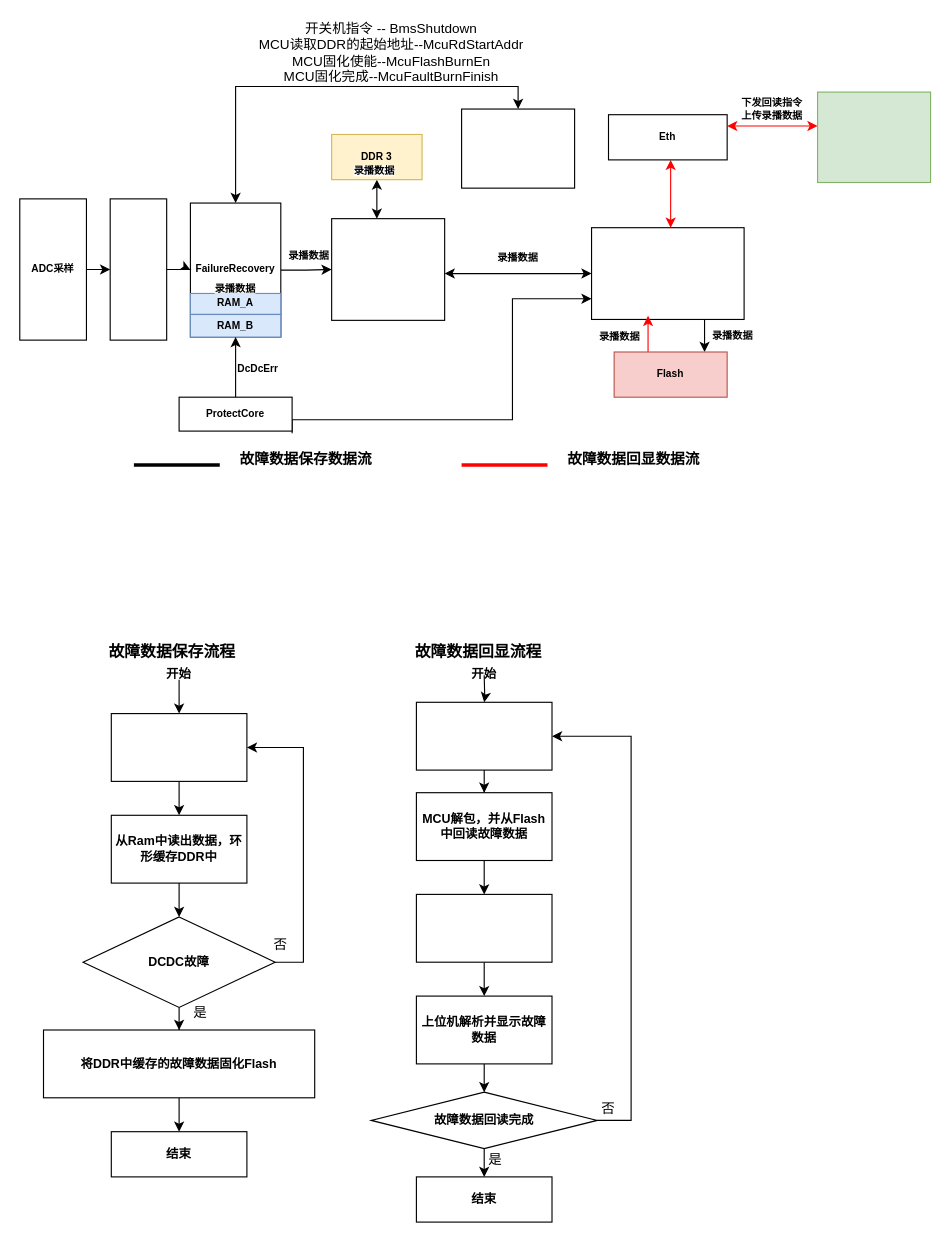
The diagram is 950 pixels wide and 1242 high, and some of its shapes have lost their labels. The centre of each missing label's shape, as x and y in pixels:
"DDRArbit" goes at [388,269].
"FPGAParaCore" goes at [517,148].
"ping-pang Ram实时缓存所需数据" goes at [178,746].
"VOFA+" goes at [873,136].
"滤波" goes at [138,269].
"软核MCU" goes at [667,273].
"通过上位机Vofa+下发读取故障信息指令" goes at [483,735].
"通过网口上传到上位机" goes at [483,927].
